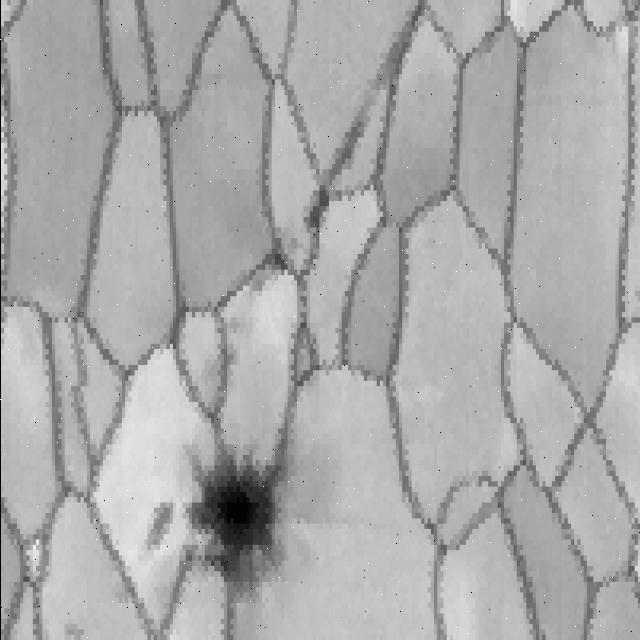good_void: (157, 423, 285, 606), (248, 271, 267, 306)
